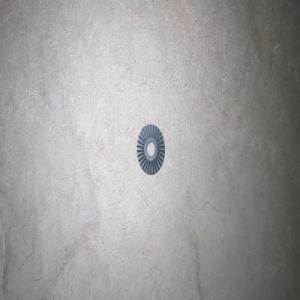Washer: (136, 123, 164, 174)
